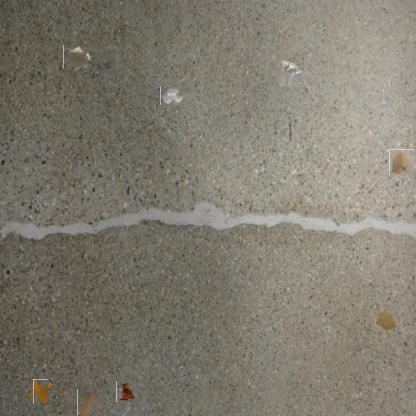dirty: (276, 57, 306, 86), (65, 43, 91, 70), (388, 150, 415, 175), (75, 391, 100, 416), (116, 381, 138, 402), (160, 85, 183, 105)
liquid: (373, 303, 397, 331), (30, 381, 51, 402)
